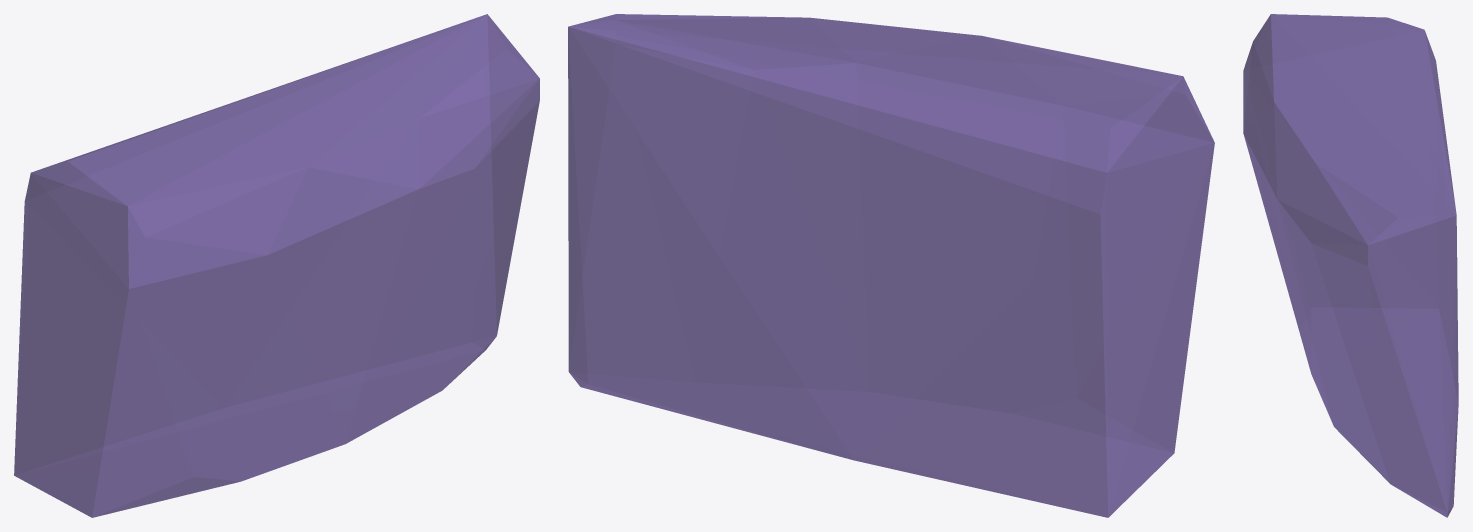
3 renders of one model, left to right at view 1: azimuth 30°, elevation 25°; view 2: azimuth 150°, elevation 25°; view 3: azimuth 270°, elevation 25°, orthographic. The views are drawn at different scales.
Parts seen in each view (by area): view 1: Shape_IndexedFaceSet.012_Shape_IndexedFaceSet.12283; view 2: Shape_IndexedFaceSet.012_Shape_IndexedFaceSet.12283; view 3: Shape_IndexedFaceSet.012_Shape_IndexedFaceSet.12283.
Part boxes in pixels (box(x1,y1,x2,y2)): Shape_IndexedFaceSet.012_Shape_IndexedFaceSet.12283: box(14, 14, 539, 517); Shape_IndexedFaceSet.012_Shape_IndexedFaceSet.12283: box(568, 14, 1214, 517); Shape_IndexedFaceSet.012_Shape_IndexedFaceSet.12283: box(1243, 14, 1458, 517).
Bounding box in the file's own units: 0.4011 × 0.265 × 0.1663.
